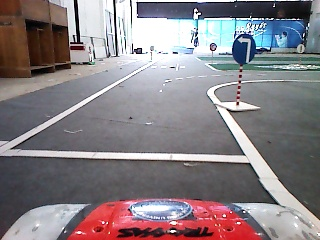turn: (231, 33, 258, 66)
